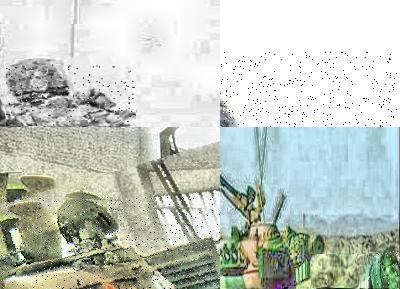tanks: (1, 198, 221, 289), (221, 174, 324, 289), (8, 66, 136, 126), (369, 250, 400, 288)
